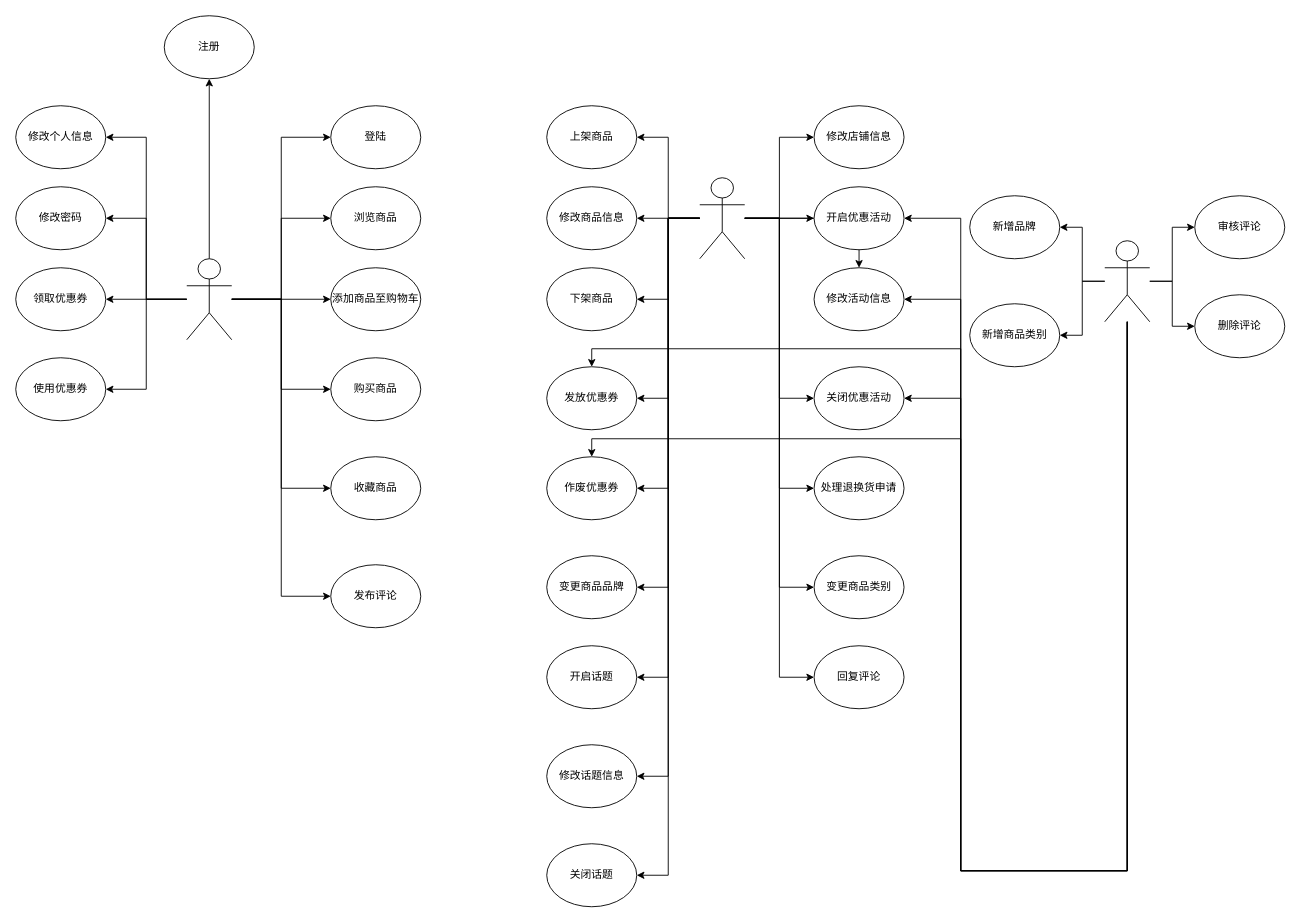
This 1301x923 diagram has some shape labels left out. The shapes that lost their labels are listed below. From the top down, each one's box as (x1, y1, x2, y2) in pixels, then its label:
(699, 177, 745, 259): 商家管理员
(186, 258, 232, 340): 客户
(1104, 240, 1150, 322): 平台管理员
